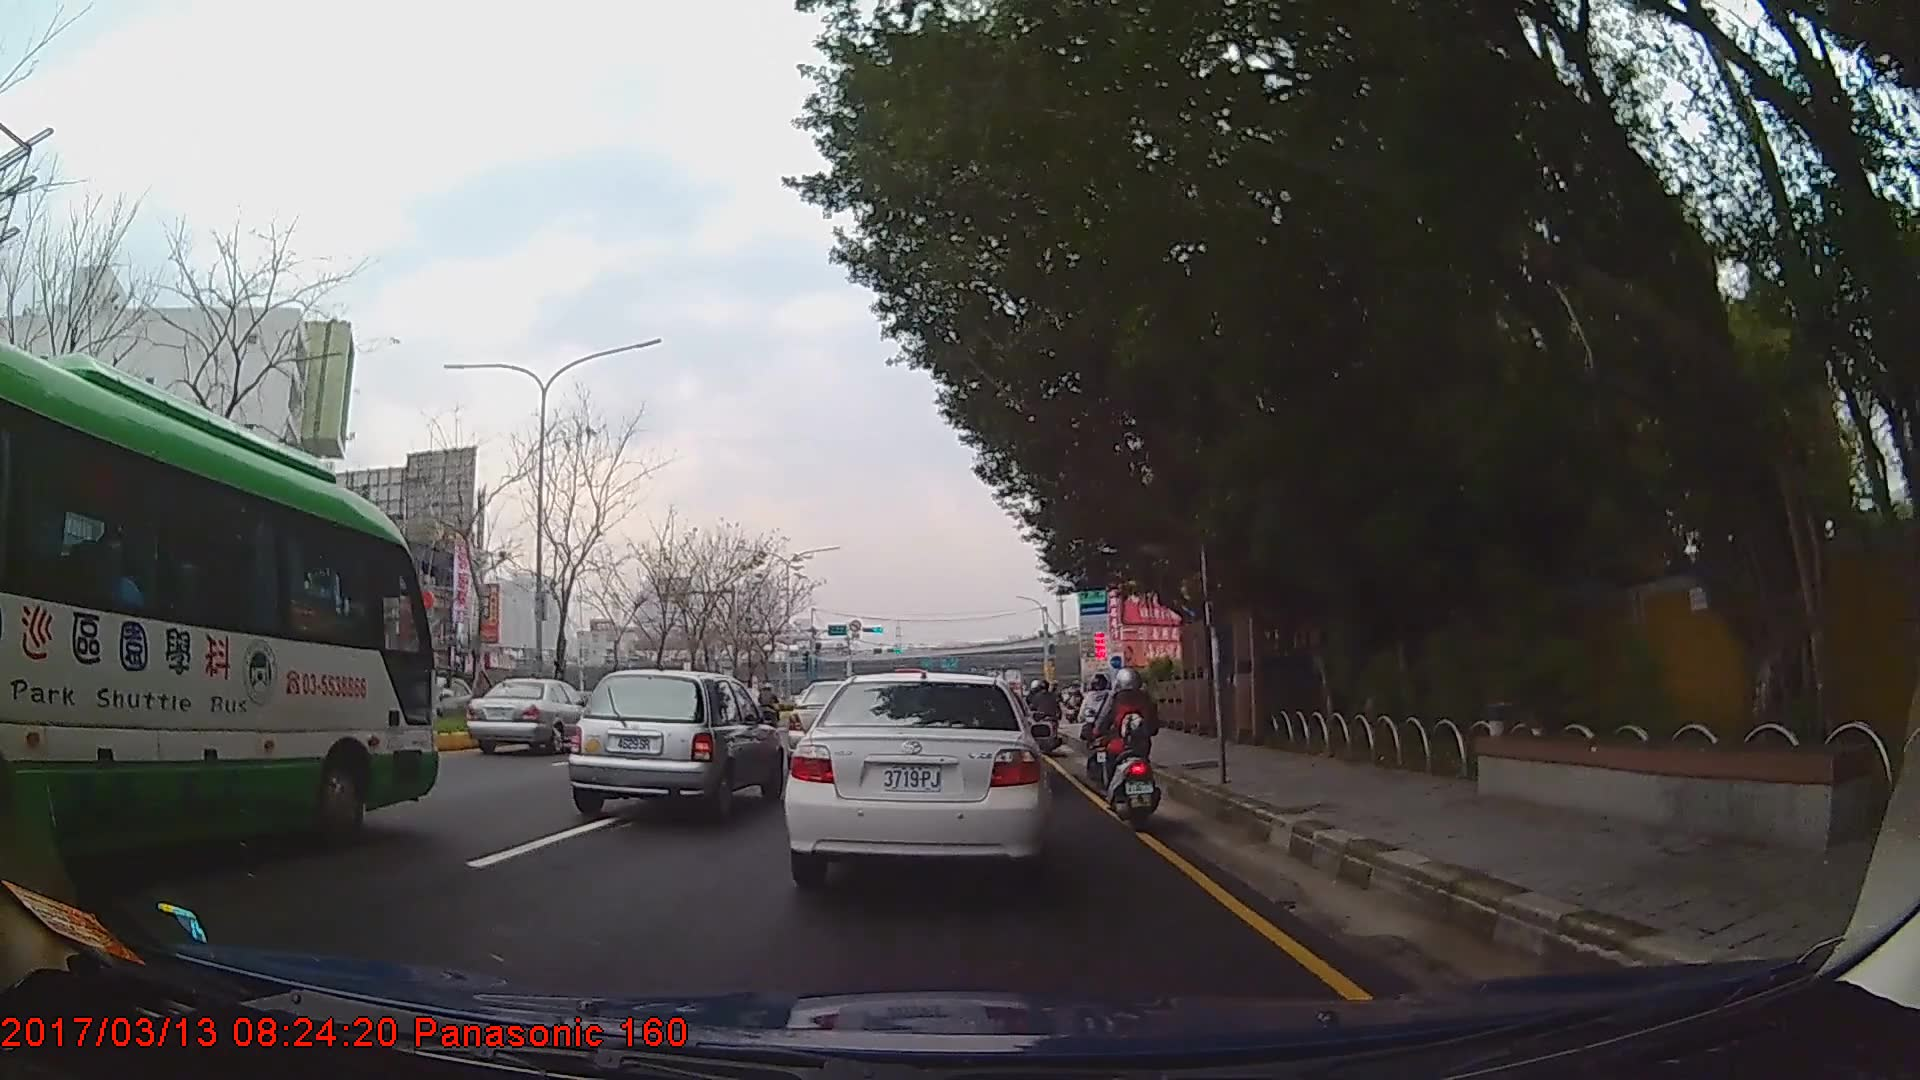rider: (1104, 661, 1164, 820), (1078, 674, 1123, 792), (1033, 676, 1060, 737)
vehicle: (0, 334, 437, 891), (781, 669, 1048, 885), (566, 666, 785, 819), (466, 674, 596, 753), (401, 670, 476, 730)
